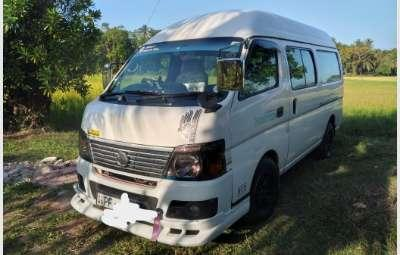van: (70, 9, 344, 249)
